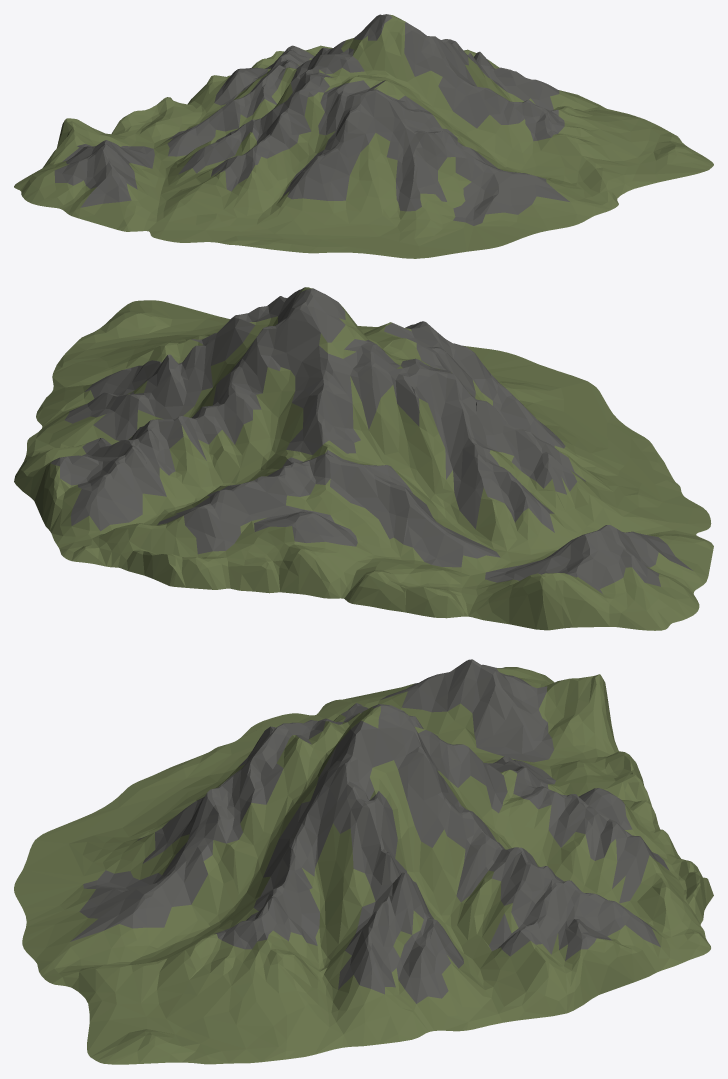
The model's file is SM_Envr_Nature_Mountain_06.fbx.
3 renders of one model, top to bottom at view 1: azimuth 30°, elevation 25°; view 2: azimuth 150°, elevation 25°; view 3: azimuth 270°, elevation 25°, orthographic. The views are drawn at different scales.
Parts seen in each view (by area): view 1: SM_Envr_Nature_Mountain_06; view 2: SM_Envr_Nature_Mountain_06; view 3: SM_Envr_Nature_Mountain_06.
Boxes of the visible parts, x1,y1,x2,y2 form: SM_Envr_Nature_Mountain_06: [14, 14, 713, 258]; SM_Envr_Nature_Mountain_06: [14, 287, 713, 630]; SM_Envr_Nature_Mountain_06: [14, 659, 713, 1064].
Size of the model in its own units: 96136 by 22464 by 72541.
